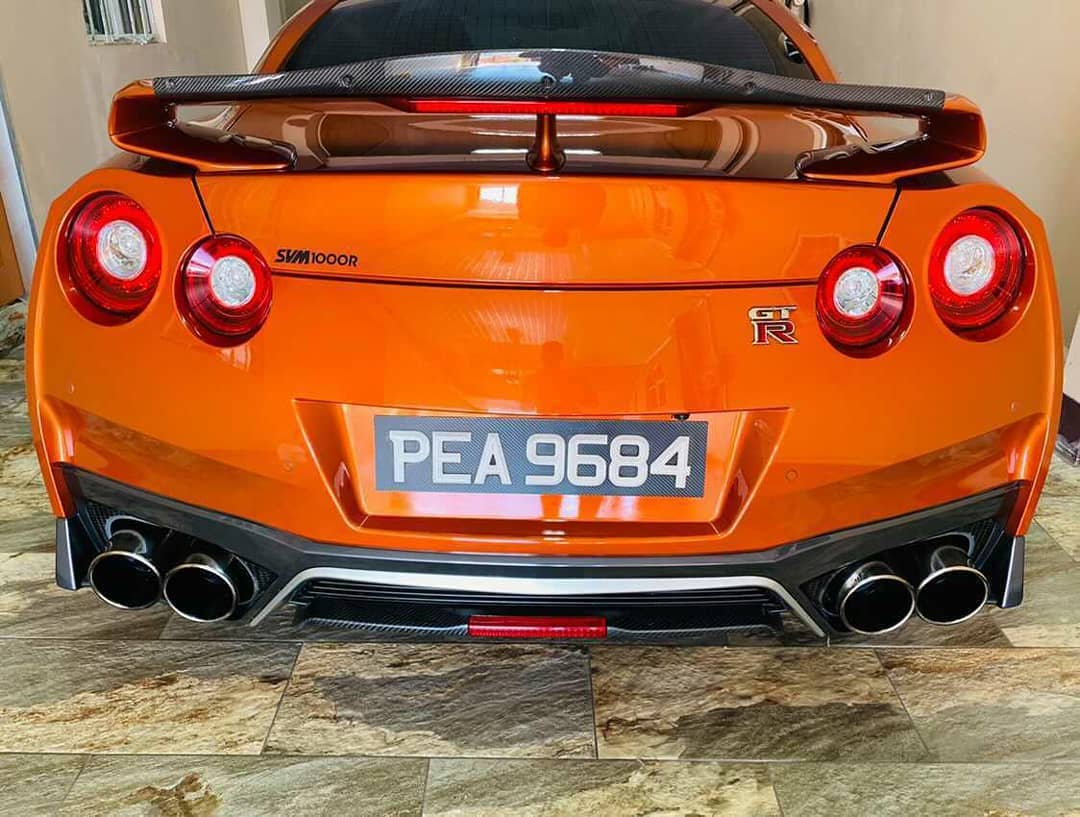License-Plate: (377, 418, 703, 489)
